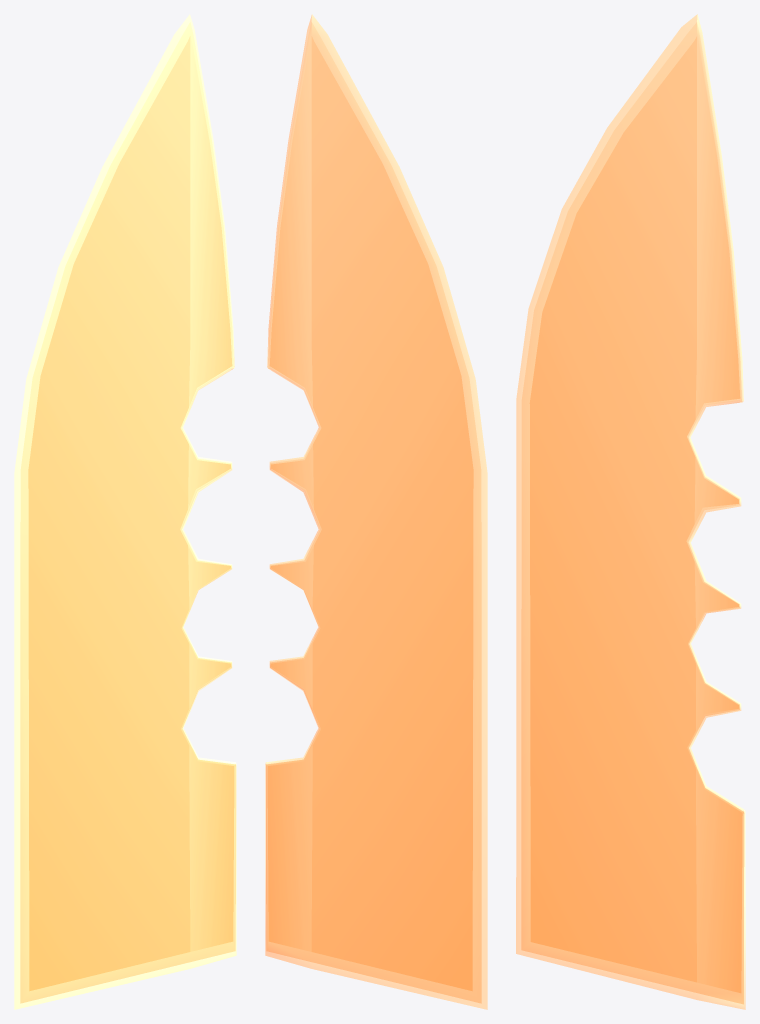
The model's file is wood_blade (2).glb.
3 views of the same model, side by side, from view 1: azimuth 30°, elevation 25°; view 2: azimuth 150°, elevation 25°; view 3: azimuth 330°, elevation 25° (orthographic). The views are drawn at different scales.
Parts seen in each view (by area): view 1: wood_blade_steel.084; view 2: wood_blade_steel.084; view 3: wood_blade_steel.084.
Boxes of the visible parts, x1,y1,x2,y2 form: wood_blade_steel.084: (14,14,236,1009); wood_blade_steel.084: (265,14,487,1009); wood_blade_steel.084: (516,14,745,1009).
Bounding box in the file's own units: 2.79 × 11.43 × 0.0204.
Materials: 1 (1 with a texture image).
